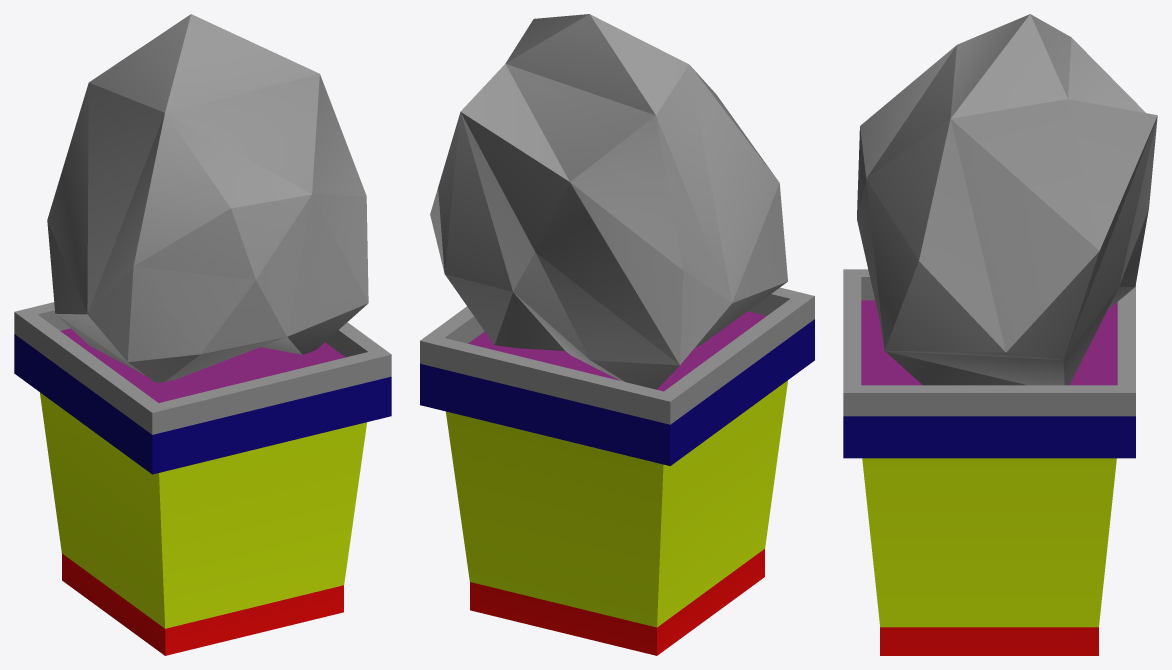
File: store_bush_02.fbx
3 renders of one model, left to right at view 1: azimuth 30°, elevation 25°; view 2: azimuth 150°, elevation 25°; view 3: azimuth 270°, elevation 25°, orthographic. The views are drawn at different scales.
Visible parts, largest first — view 1: Hedra001, Box001; view 2: Box001, Hedra001; view 3: Hedra001, Box001.
Boxes of the visible parts, <box> form: Hedra001: <box>47,14,368,382</box>; Box001: <box>14,302,391,655</box>; Box001: <box>420,287,814,655</box>; Hedra001: <box>430,14,787,389</box>; Hedra001: <box>857,14,1157,385</box>; Box001: <box>843,269,1135,655</box>.
Bounding box in the file's own units: 54.63 × 48.3 × 102.
